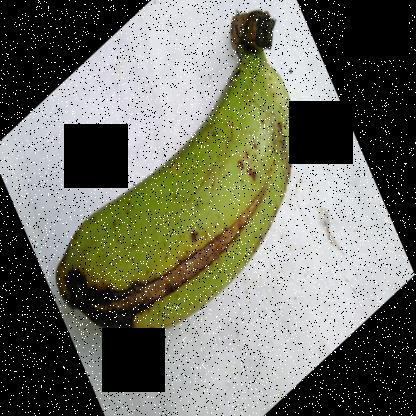rotten: (62, 162, 284, 360)
